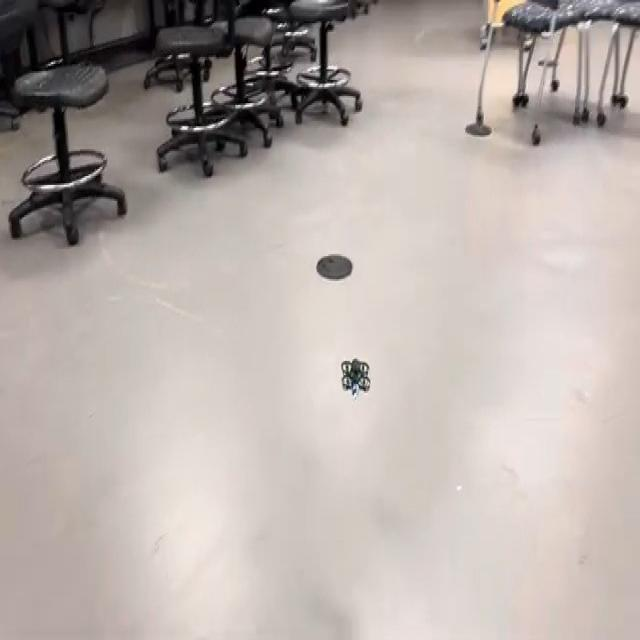drone: (330, 341, 385, 412)
